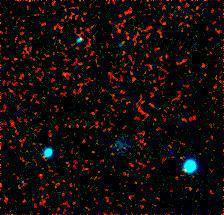star: (158, 136, 188, 166)
